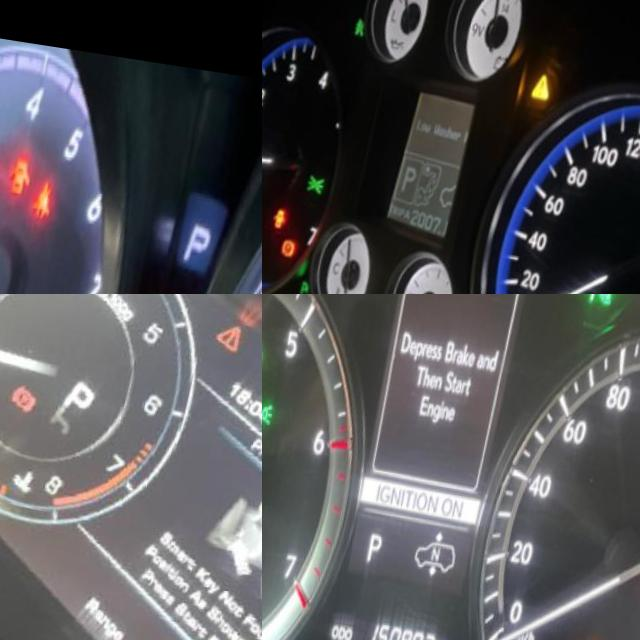Central Warning lamp: (532, 55, 563, 96)
Doors: (281, 199, 303, 230)
Engine cooling system: (12, 456, 50, 494)
